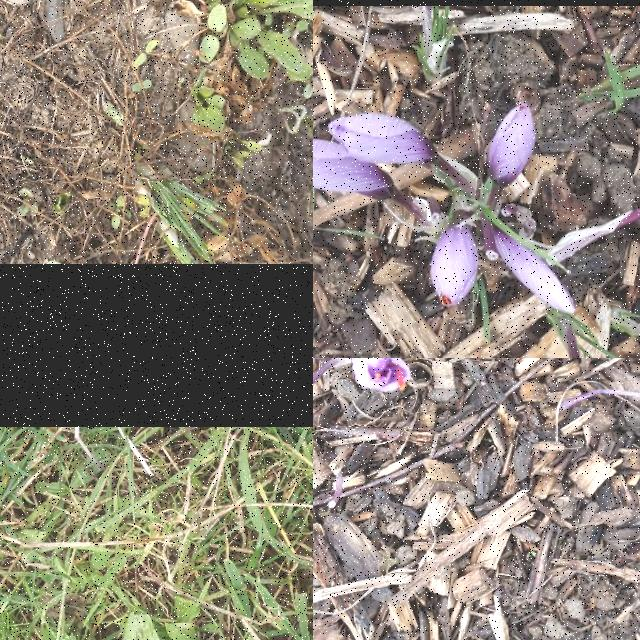flower: (496, 230, 574, 316), (328, 113, 442, 165), (313, 139, 395, 201), (486, 105, 534, 192), (429, 227, 478, 309), (352, 358, 411, 391)
